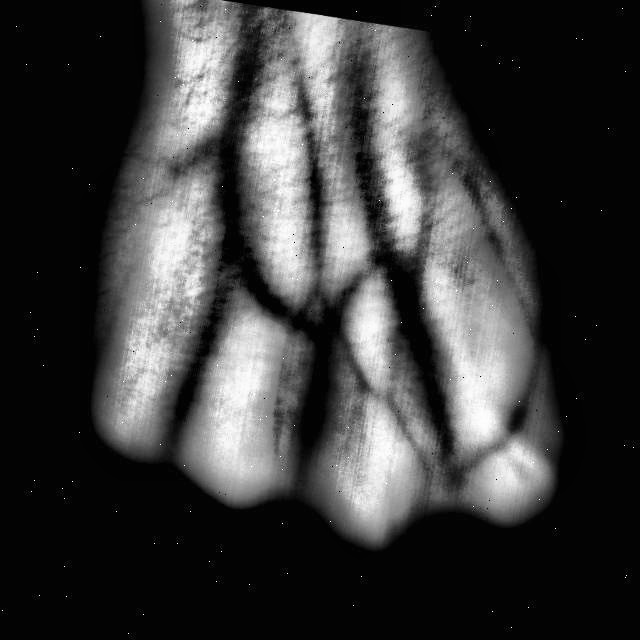Vein: (326, 112, 440, 359), (198, 92, 253, 325)
